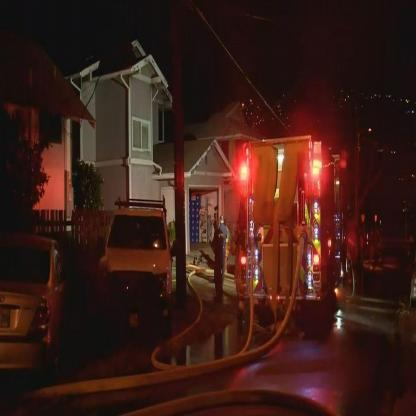other: (304, 137, 334, 196), (232, 142, 260, 194)
